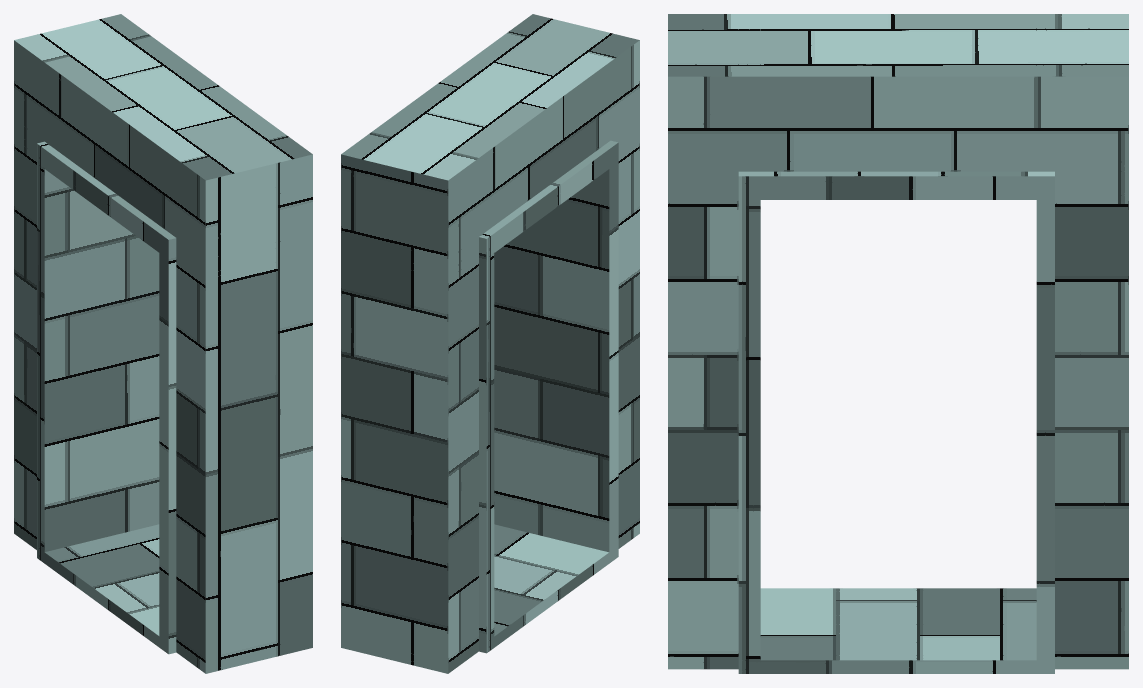
File: Wall_Doorway.glb
3 views of the same model, side by side, from view 1: azimuth 30°, elevation 25°; view 2: azimuth 150°, elevation 25°; view 3: azimuth 270°, elevation 25° (orthographic). The views are drawn at different scales.
Parts seen in each view (by area): view 1: doorway; view 2: doorway; view 3: doorway.
Boxes of the visible parts, x1,y1,x2,y2 form: doorway: (14,14,312,673); doorway: (341,14,639,673); doorway: (668,14,1128,673).
Size of the model in its own units: 1.15 by 4.4 by 3.1.
1 material, 1 textured.
